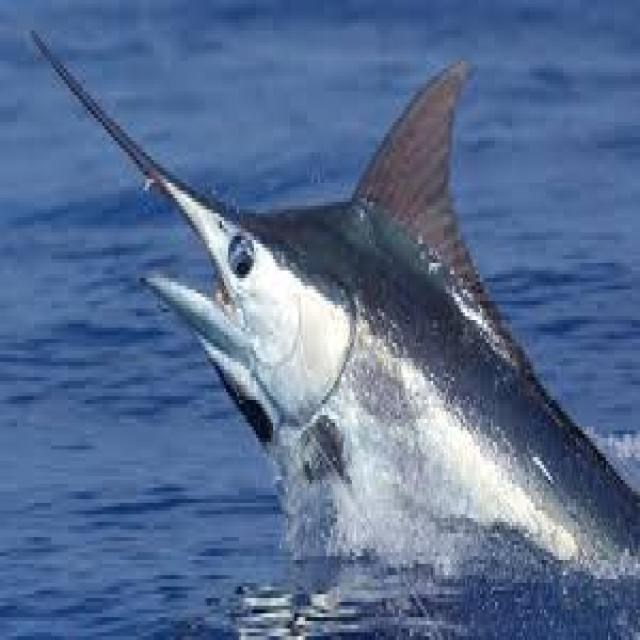Blue Marlin: (30, 27, 640, 590)
